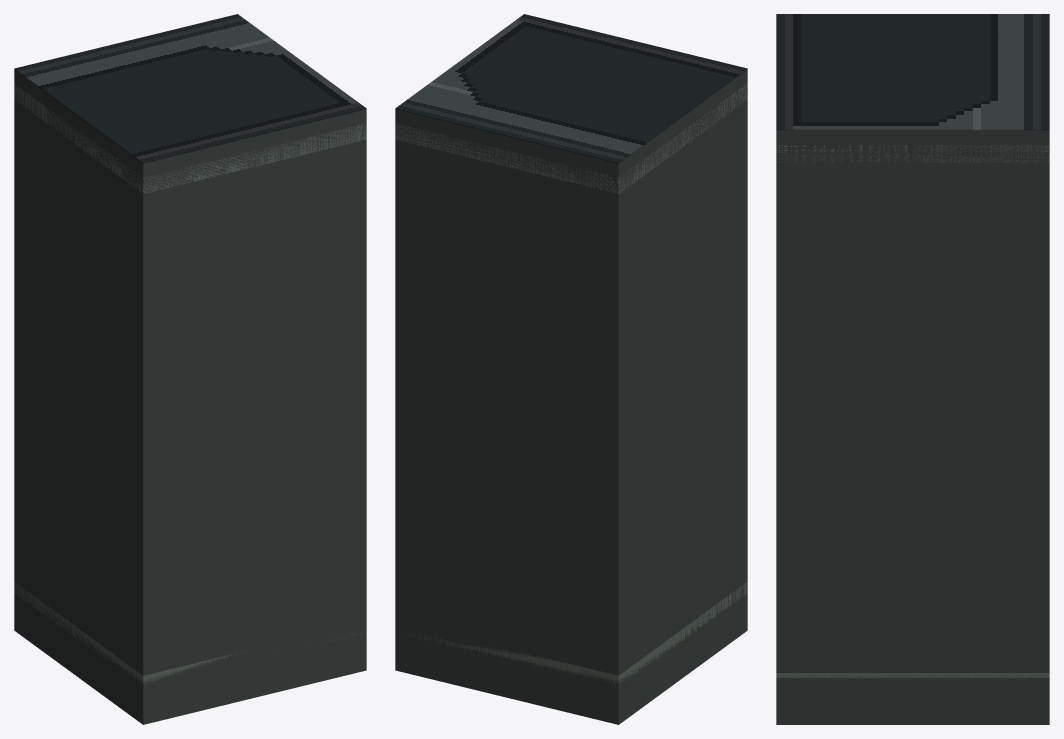
File: CMU3DInteriorVehicleAPCFrontWheelR.glb
3 renders of one model, left to right at view 1: azimuth 30°, elevation 25°; view 2: azimuth 150°, elevation 25°; view 3: azimuth 270°, elevation 25°, orthographic. The views are drawn at different scales.
Parts seen in each view (by area): view 1: cabin bulkhead, cabin bulkhead source finish, upper armor trim, lower armor trim; view 2: cabin bulkhead, cabin bulkhead source finish, upper armor trim, lower armor trim; view 3: cabin bulkhead, cabin bulkhead source finish, lower armor trim, upper armor trim.
Boxes of the visible parts, bbox=[...] form: cabin bulkhead: bbox=[14, 69, 366, 724]; cabin bulkhead source finish: bbox=[14, 14, 366, 163]; upper armor trim: bbox=[14, 83, 366, 193]; lower armor trim: bbox=[14, 582, 366, 684]; cabin bulkhead: bbox=[395, 69, 747, 724]; cabin bulkhead source finish: bbox=[395, 14, 747, 163]; upper armor trim: bbox=[395, 83, 747, 193]; lower armor trim: bbox=[401, 582, 747, 684]; cabin bulkhead: bbox=[776, 130, 1049, 724]; cabin bulkhead source finish: bbox=[776, 14, 1049, 130]; lower armor trim: bbox=[776, 673, 1049, 679]; upper armor trim: bbox=[776, 145, 1049, 162].
Size of the model in its own units: 1 by 2.4 by 1.
Materials: 4 (1 with a texture image).
